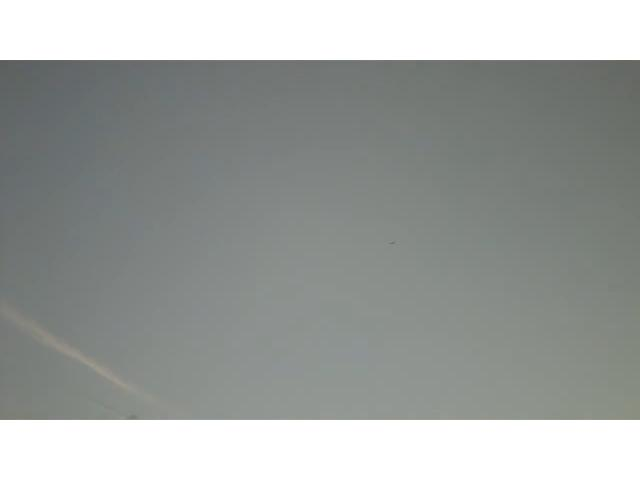Anti-Drone: (383, 236, 405, 252)
